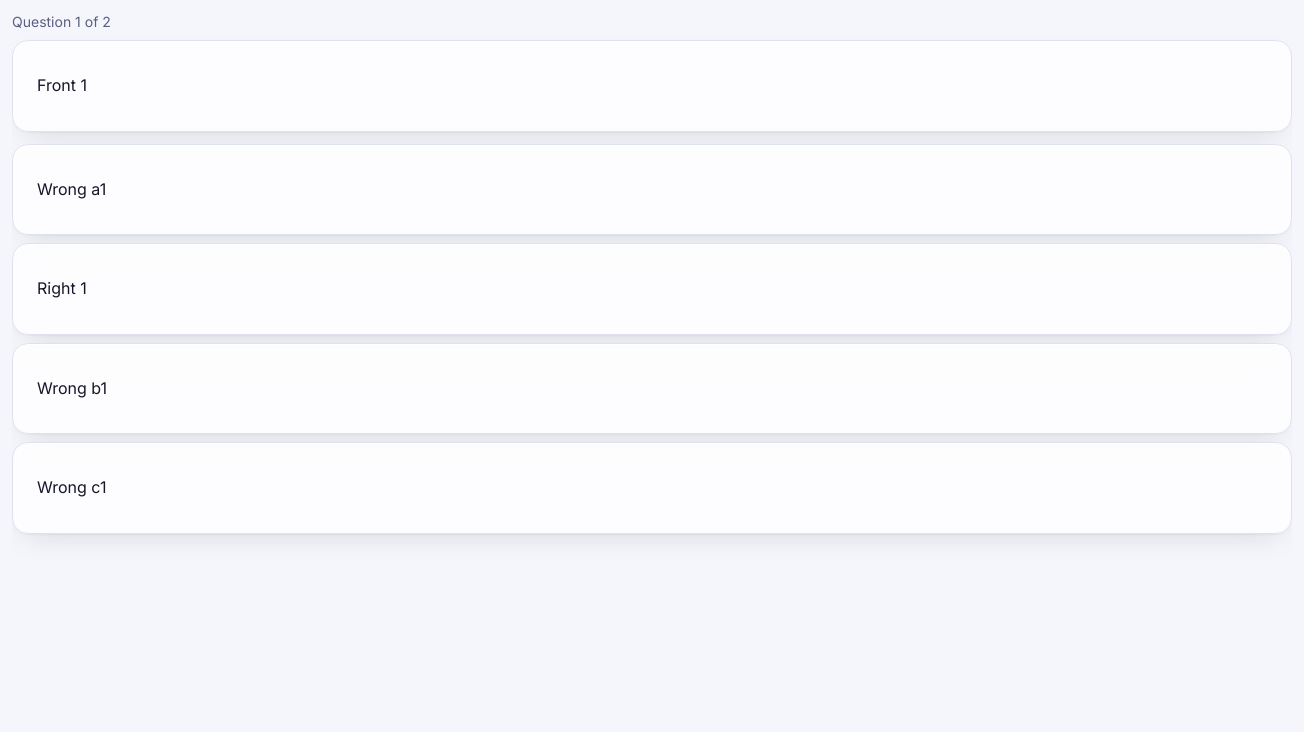
Scenario: SpeedGame › keeps one status area and moves focus to Next after an answer, and to the new question after Next
What coordinates should you click on to do the following:
click the button "Right 1"
I would click on:
 (62, 288)
Its box is [12, 243, 1292, 335].
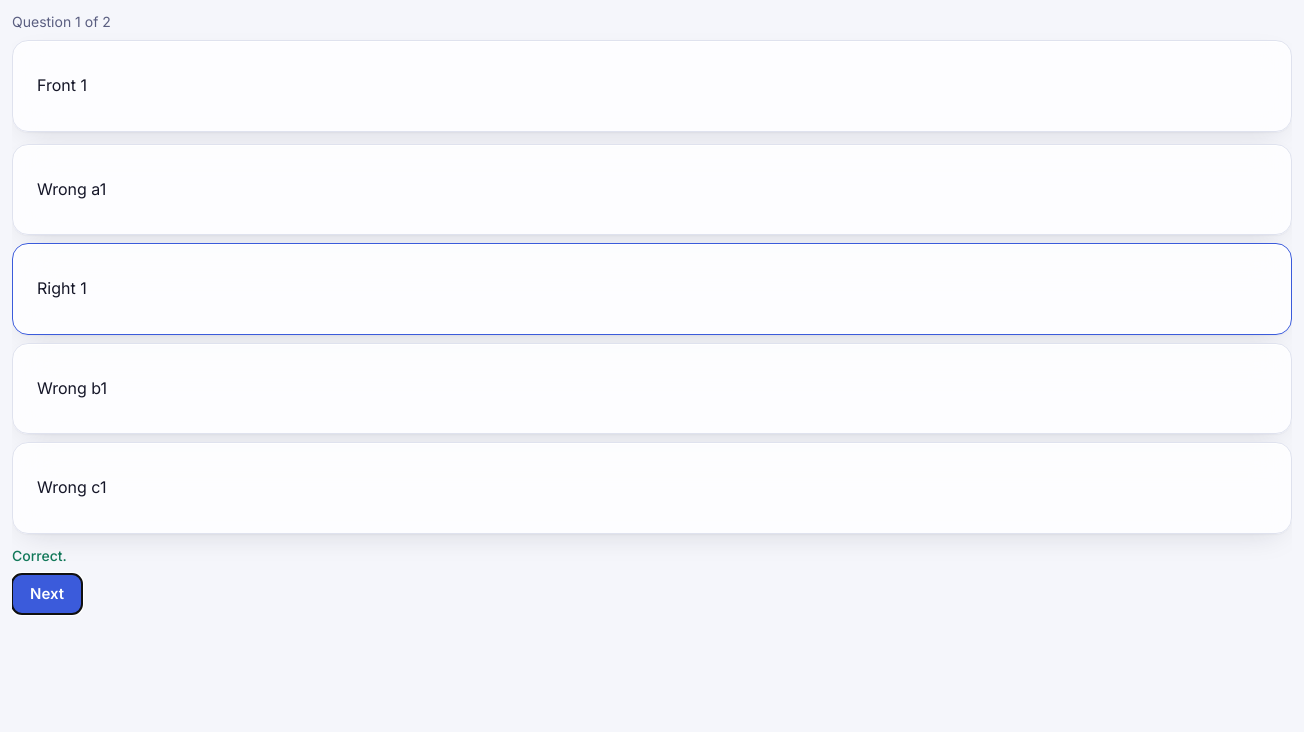
expect the text "Correct." is shown: met, box [12, 547, 67, 564]
What coordinates should you click on to do the following:
click the button "Next"
I would click on:
 (47, 594)
Its box is [12, 574, 82, 614].
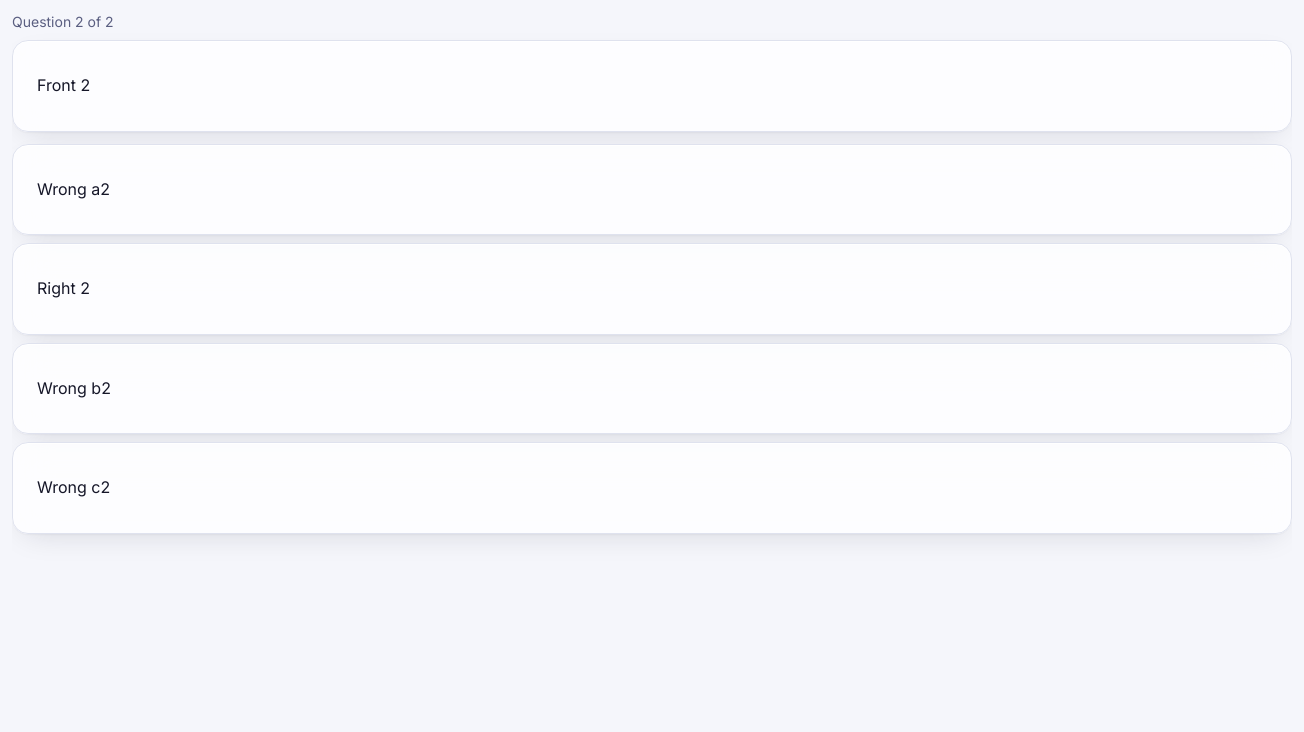
expect the text "Front 2" is shown: met, box [37, 75, 90, 95]
